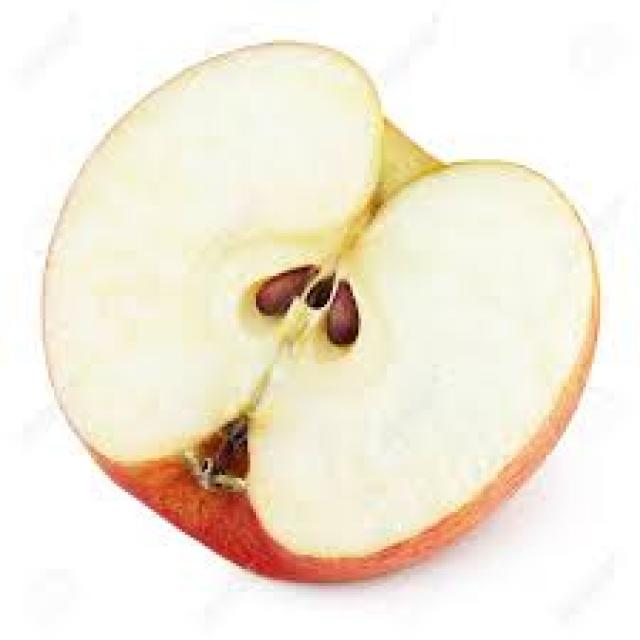Apple: (41, 42, 598, 586)
